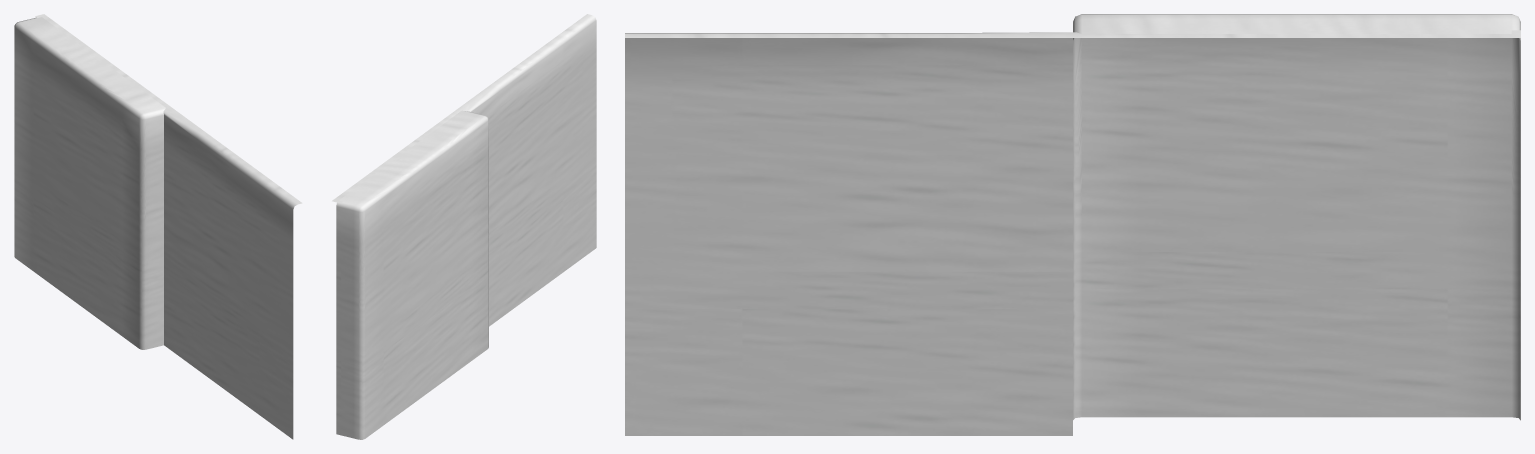
File: dikeL.FBX
3 views of the same model, side by side, from view 1: azimuth 30°, elevation 25°; view 2: azimuth 150°, elevation 25°; view 3: azimuth 270°, elevation 25° (orthographic). The views are drawn at different scales.
Parts seen in each view (by area): view 1: Object066; view 2: Object066; view 3: Object066.
Part boxes in pixels (x1=…): Object066: x1=14, y1=14, x2=302, y2=439; Object066: x1=332, y1=14, x2=596, y2=439; Object066: x1=625, y1=14, x2=1520, y2=435.
Bounding box in the file's own units: 56.62 × 400 × 800.
